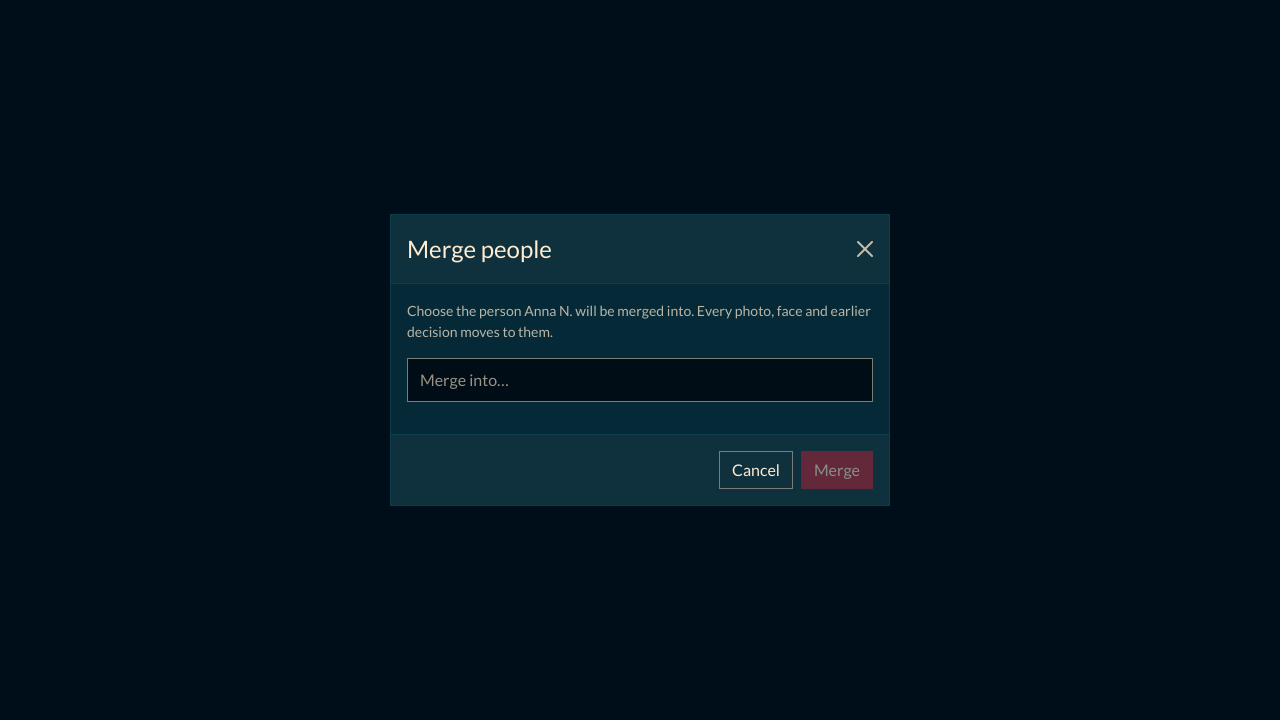
Test: MergeSubjectModal › confirms with both records and a warning before anything is merged
The image size is (1280, 720).
Type "Ann" into the dropdown labelled "Merge into…" at (640, 380), box [407, 358, 873, 402]
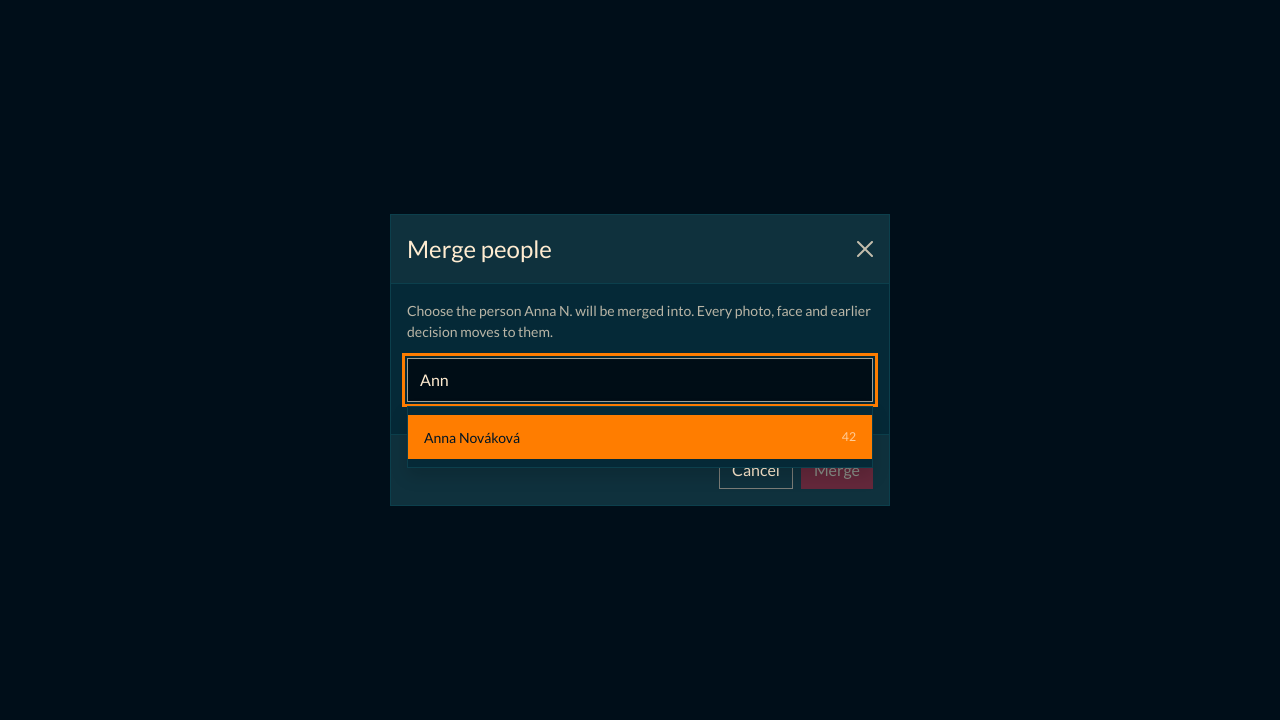
Click the option "Anna Nováková 42" at (472, 437), box [408, 415, 872, 459]
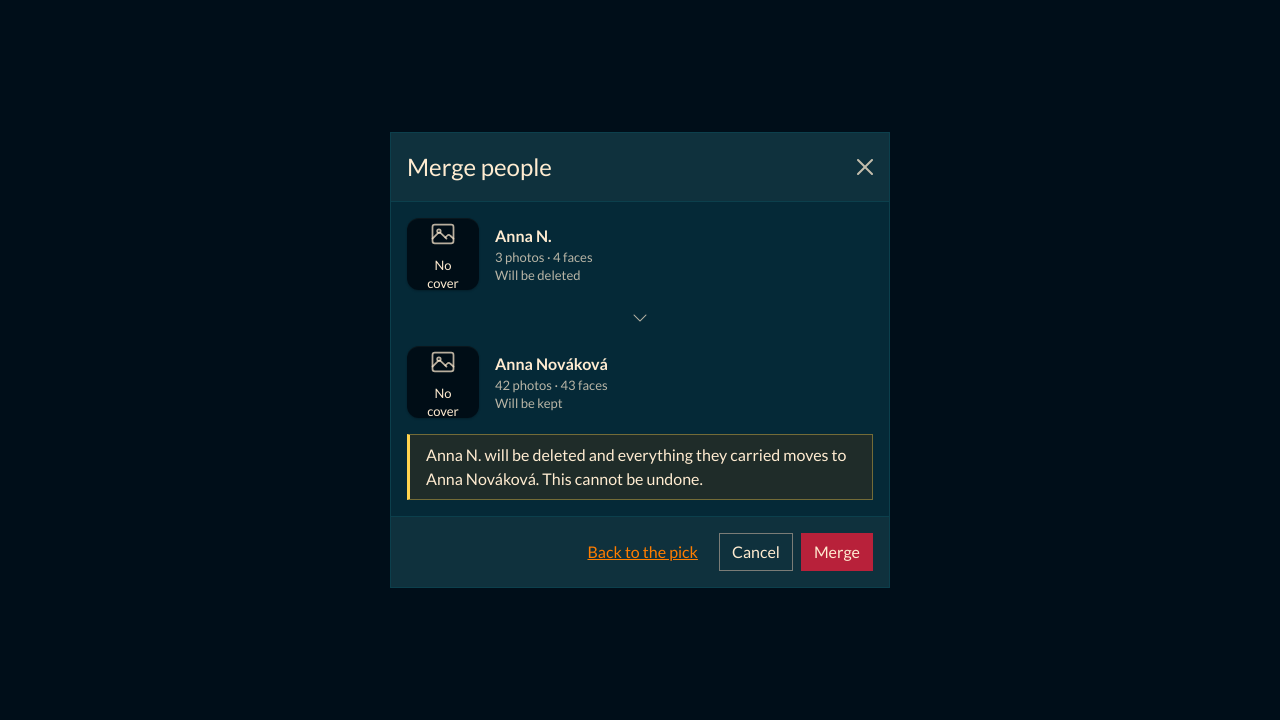
expect the text "Will be deleted" is shown: met, box [495, 266, 592, 284]
expect the text "Will be kept" is shown: met, box [495, 395, 563, 411]
expect the text "3 photos · 4 faces" is shown: met, box [495, 248, 592, 266]
